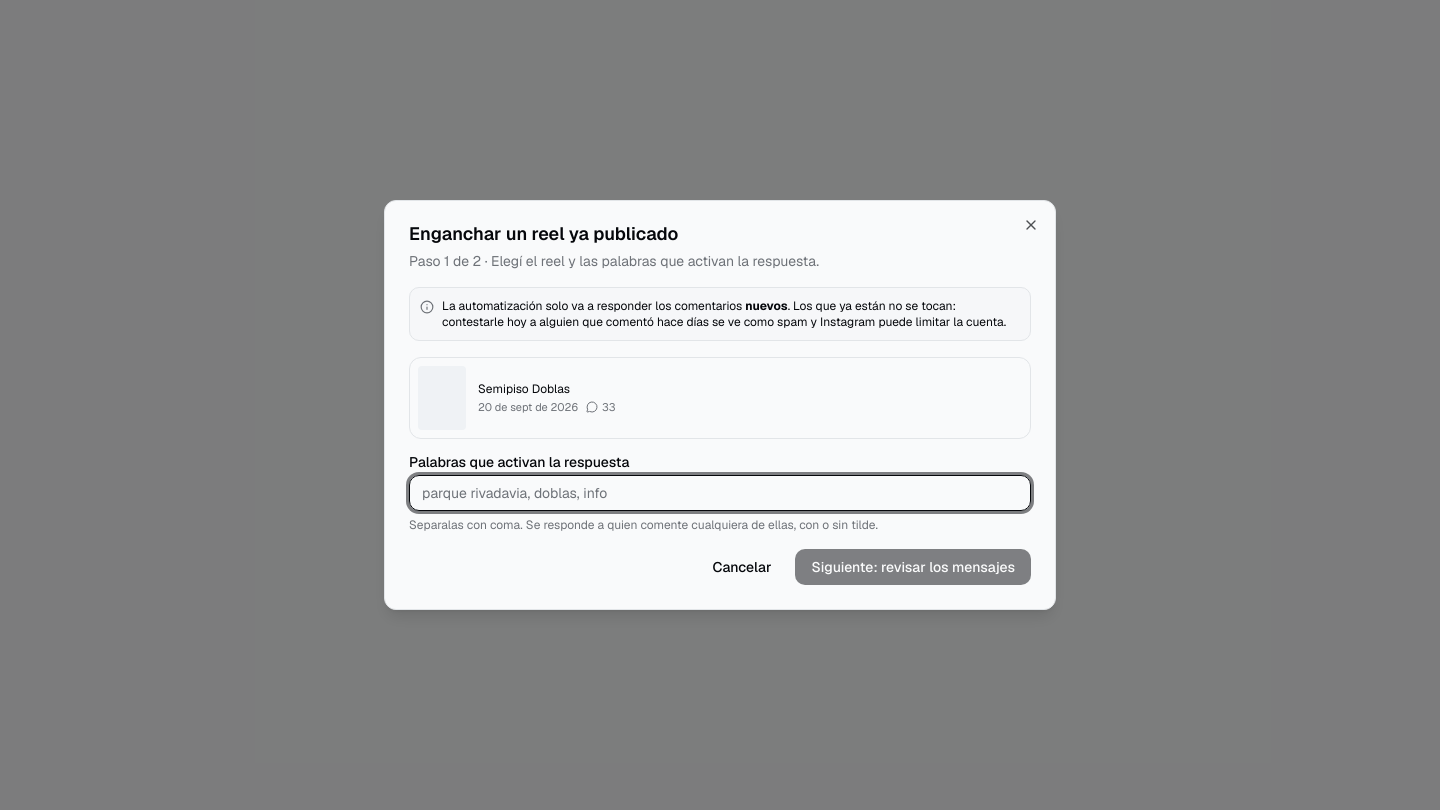
Test: EngancharReelDialog › Atrás vuelve al paso 1 sin perder lo elegido
Click the button "Semipiso Doblas 20 de sept de 2026 33": coordinates (442, 398) [409,357,1031,439]
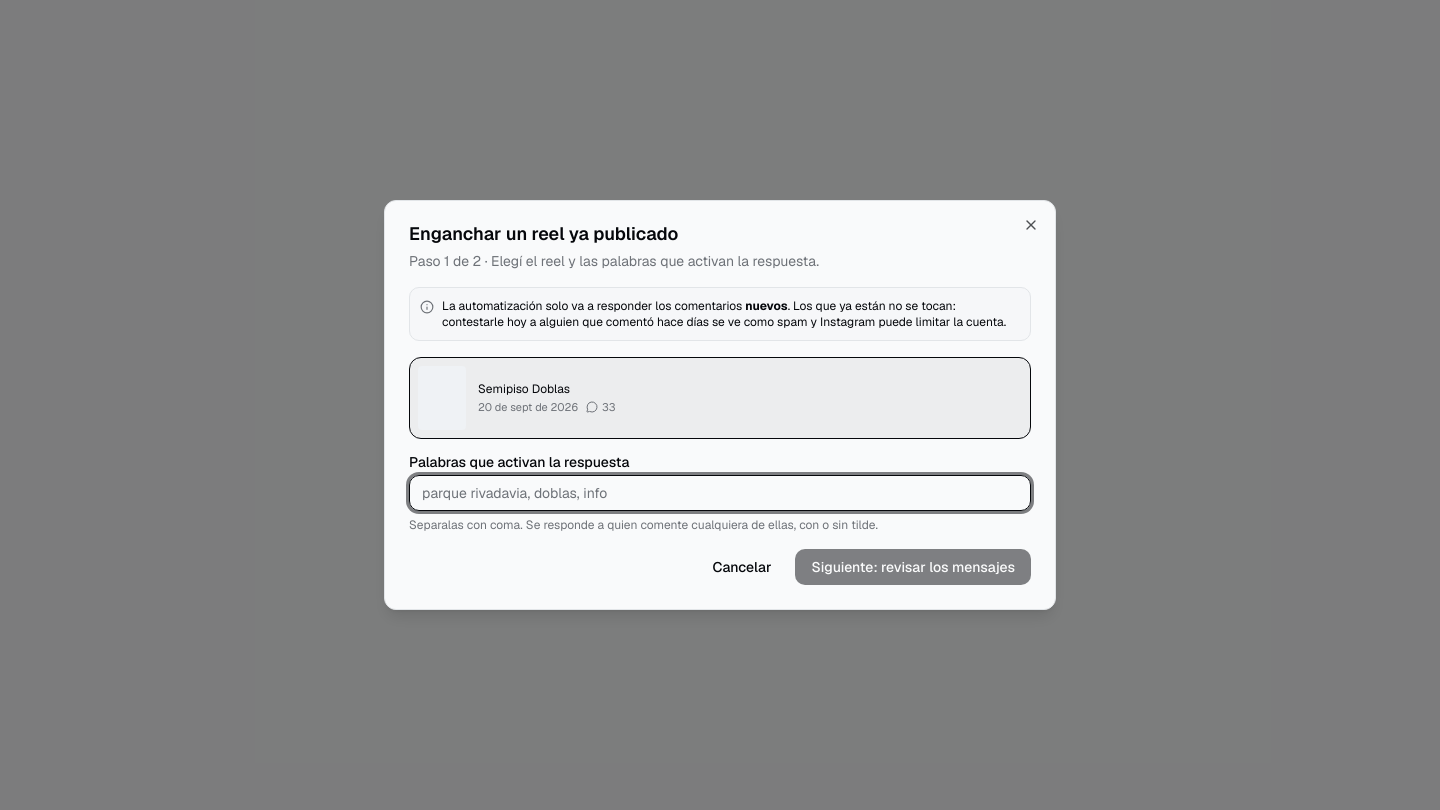
In the field labelled "Palabras que activan la respuesta": coordinates (720, 493) [409,475,1031,511], type "doblas"
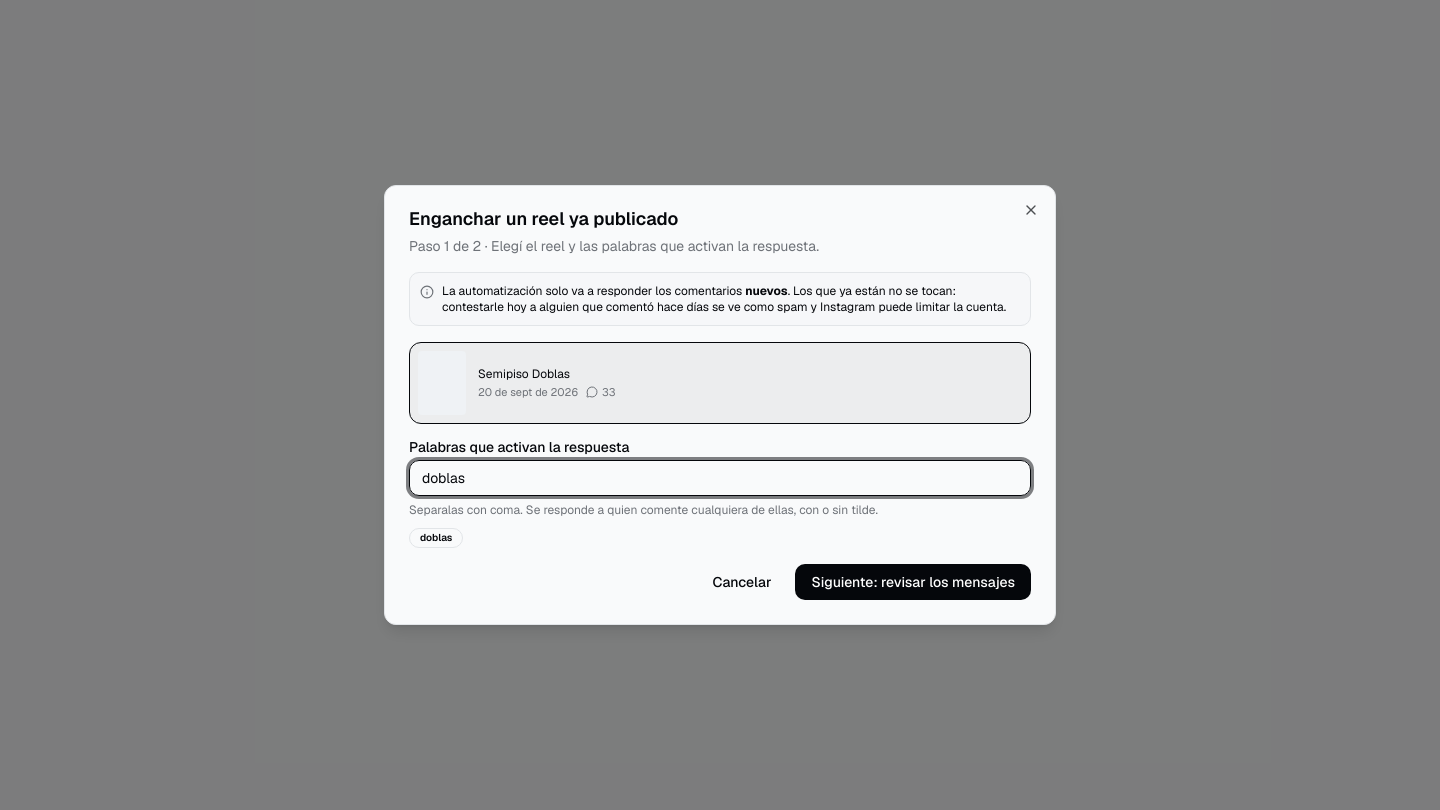
Click the button "Siguiente: revisar los mensajes": coordinates (913, 582) [795,564,1031,600]
(page scrolled)
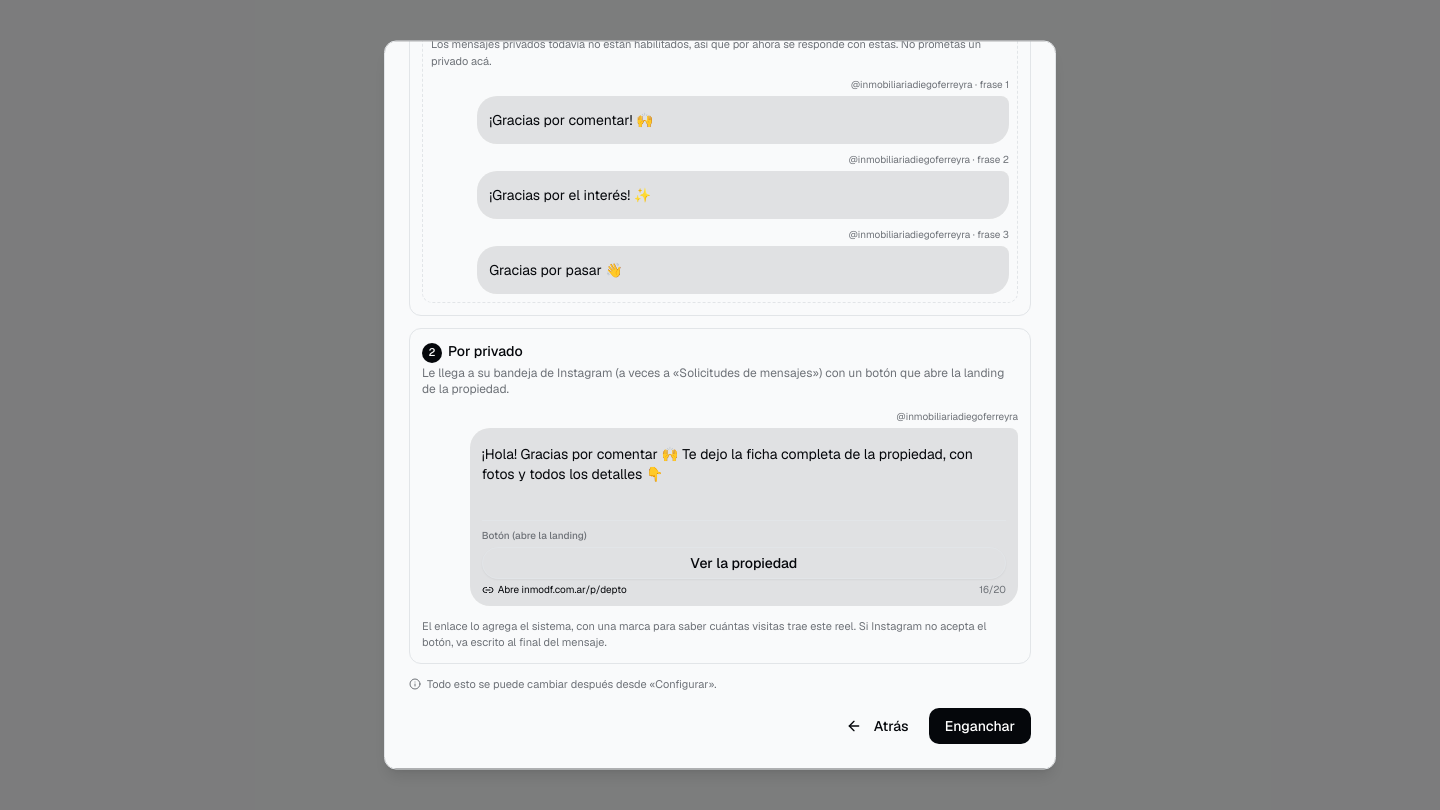
Click the button "Atrás": coordinates (877, 727) [834,709,921,745]
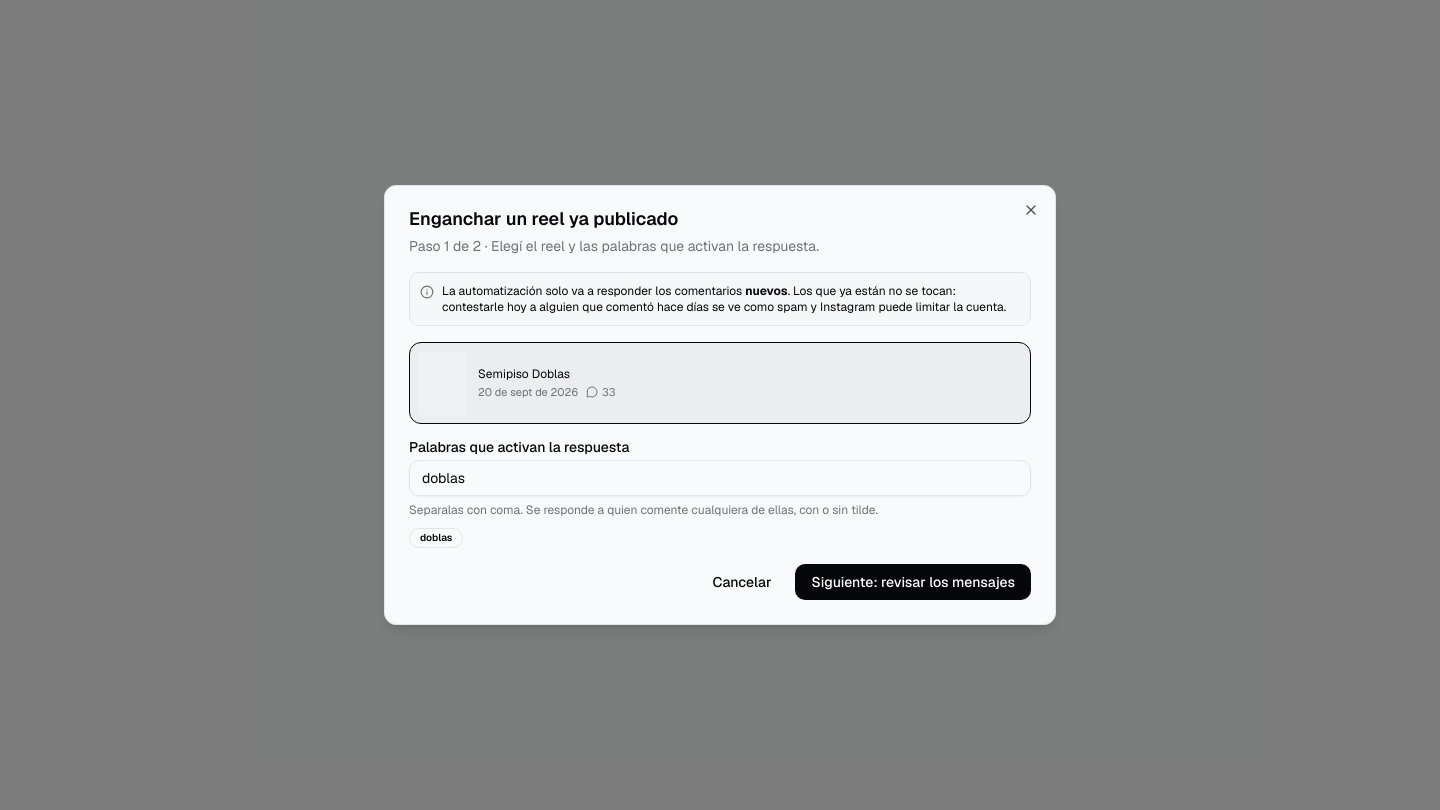
Expected: the field labelled "Palabras que activan la respuesta" holds "doblas", [409,460,1031,496]
